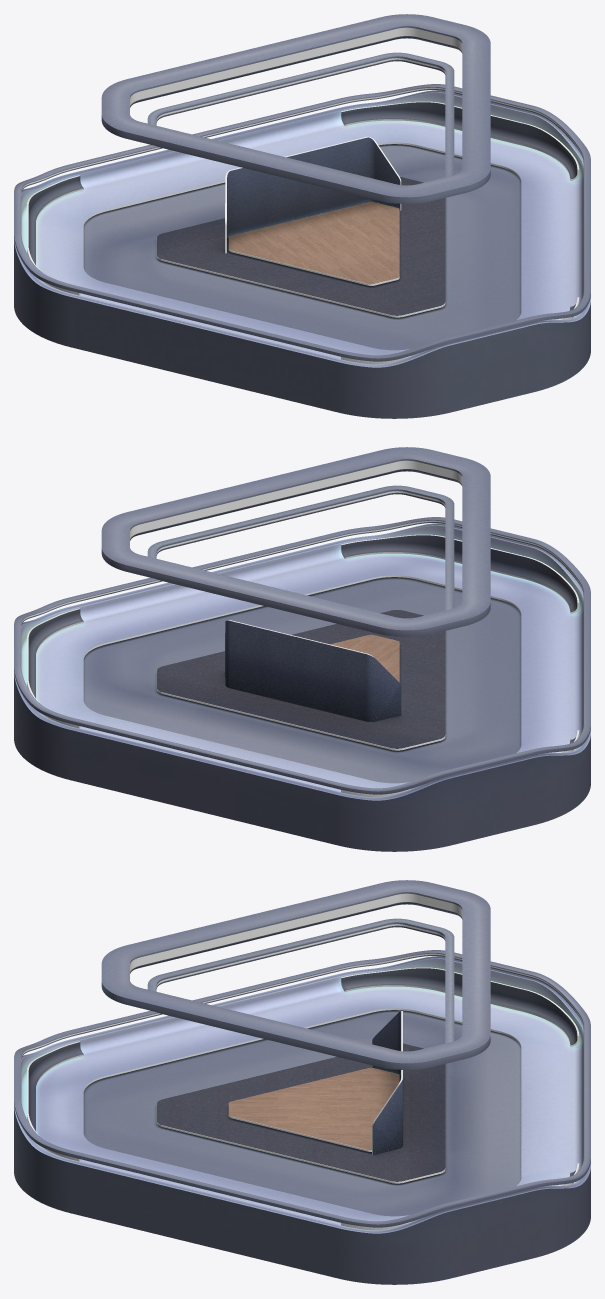
File: environment.glb
3 views of the same model, one above another, from view 1: azimuth 30°, elevation 25°; view 2: azimuth 150°, elevation 25°; view 3: azimuth 270°, elevation 25° (orthographic).
Parts seen in each view (by area): view 1: floorBase_geo.002, ceiling_geo.002, backWall_geo; view 2: floorBase_geo.002, ceiling_geo.002, backWall_geo; view 3: floorBase_geo.002, ceiling_geo.002, backWall_geo.
Boxes of the visible parts, x1,y1,x2,y2 form: floorBase_geo.002: [14, 84, 590, 418]; ceiling_geo.002: [101, 14, 490, 203]; backWall_geo: [225, 136, 401, 253]; floorBase_geo.002: [14, 517, 590, 851]; ceiling_geo.002: [101, 447, 490, 636]; backWall_geo: [225, 620, 401, 721]; floorBase_geo.002: [14, 950, 590, 1284]; ceiling_geo.002: [101, 880, 490, 1069]; backWall_geo: [372, 1011, 402, 1155].
Size of the model in its own units: 17.24 by 5.42 by 15.76.
3 materials, 3 textured.
